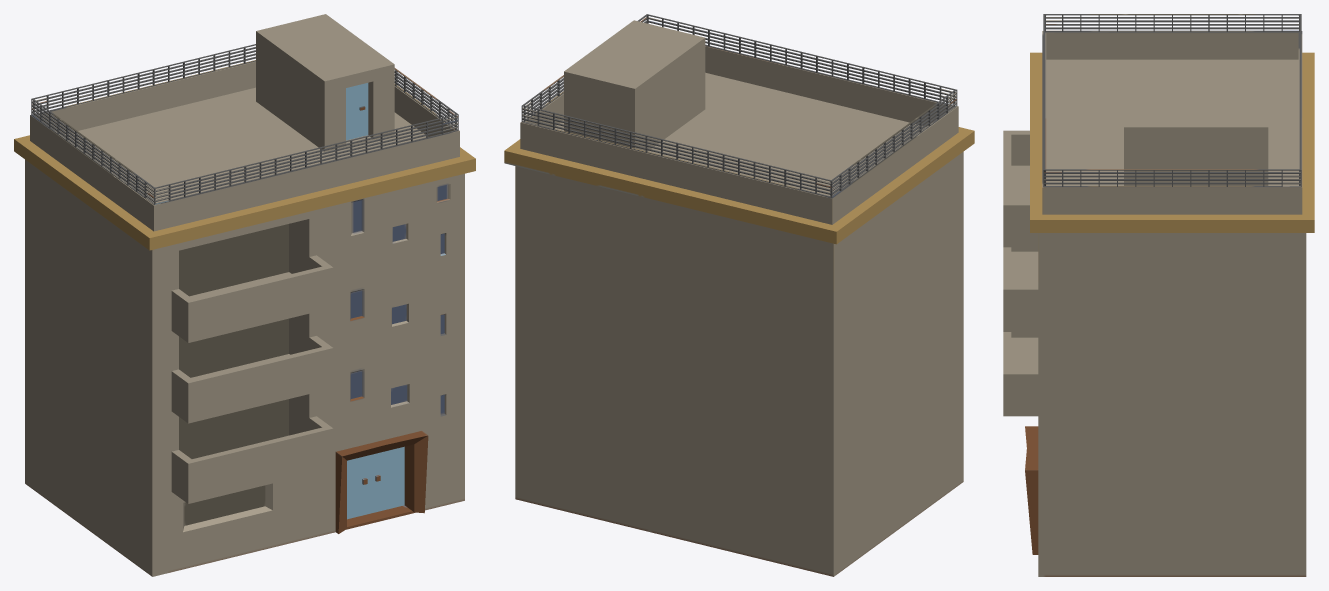
The model's file is APARTMENT_F.fbx.
3 views of the same model, side by side, from view 1: azimuth 30°, elevation 25°; view 2: azimuth 150°, elevation 25°; view 3: azimuth 270°, elevation 25° (orthographic). The views are drawn at different scales.
Visible parts, largest first — view 1: Apartment; view 2: Apartment; view 3: Apartment.
Boxes of the visible parts, <box> form: Apartment: <box>14,14,475,576</box>; Apartment: <box>504,14,974,576</box>; Apartment: <box>1003,14,1314,576</box>.
Bounding box in the file's own units: 12595 × 15264 × 9915.
1 material, 1 textured.
